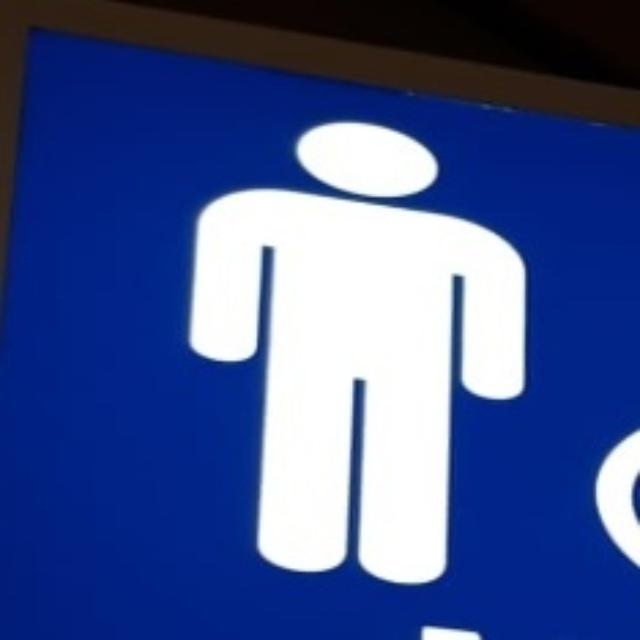mens_restroom: (0, 33, 637, 637)
